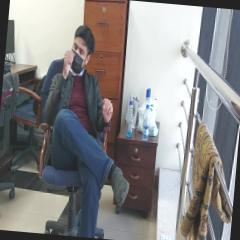not-gloved: (62, 50, 75, 79), (100, 98, 114, 124)
